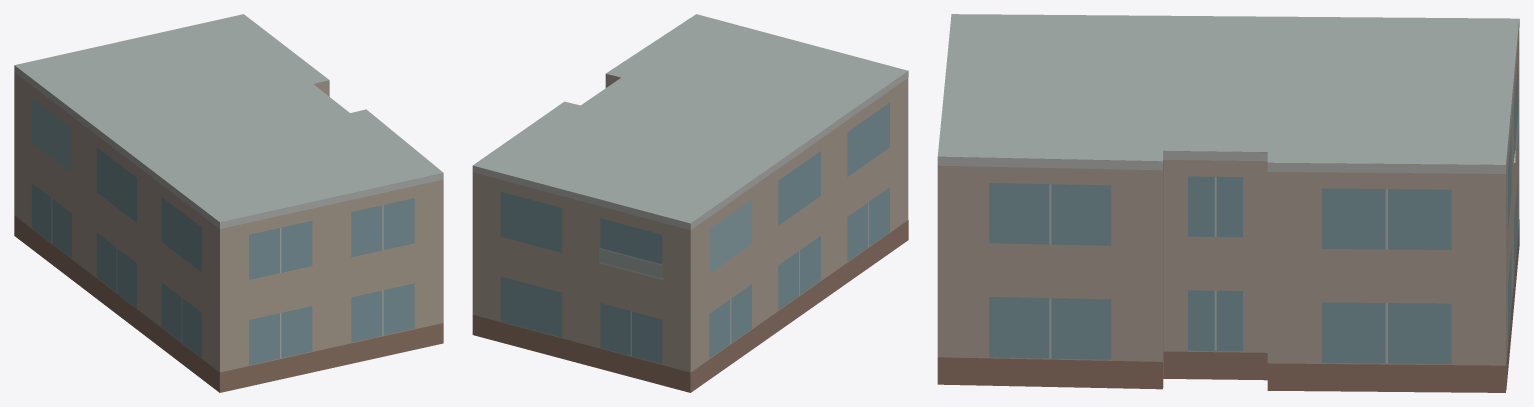
File: survey-upis-32652721.glb
3 views of the same model, side by side, from view 1: azimuth 30°, elevation 25°; view 2: azimuth 150°, elevation 25°; view 3: azimuth 270°, elevation 25° (orthographic). The views are drawn at different scales.
Visible parts, largest first — view 1: survey-upis-32652721.tmp; view 2: survey-upis-32652721.tmp; view 3: survey-upis-32652721.tmp.
Part boxes in pixels (x1,y1,x2,y2): survey-upis-32652721.tmp: (14,14,443,392); survey-upis-32652721.tmp: (472,14,908,392); survey-upis-32652721.tmp: (937,14,1519,392).
Size of the model in its own units: 8.67 by 6.1 by 14.12.
